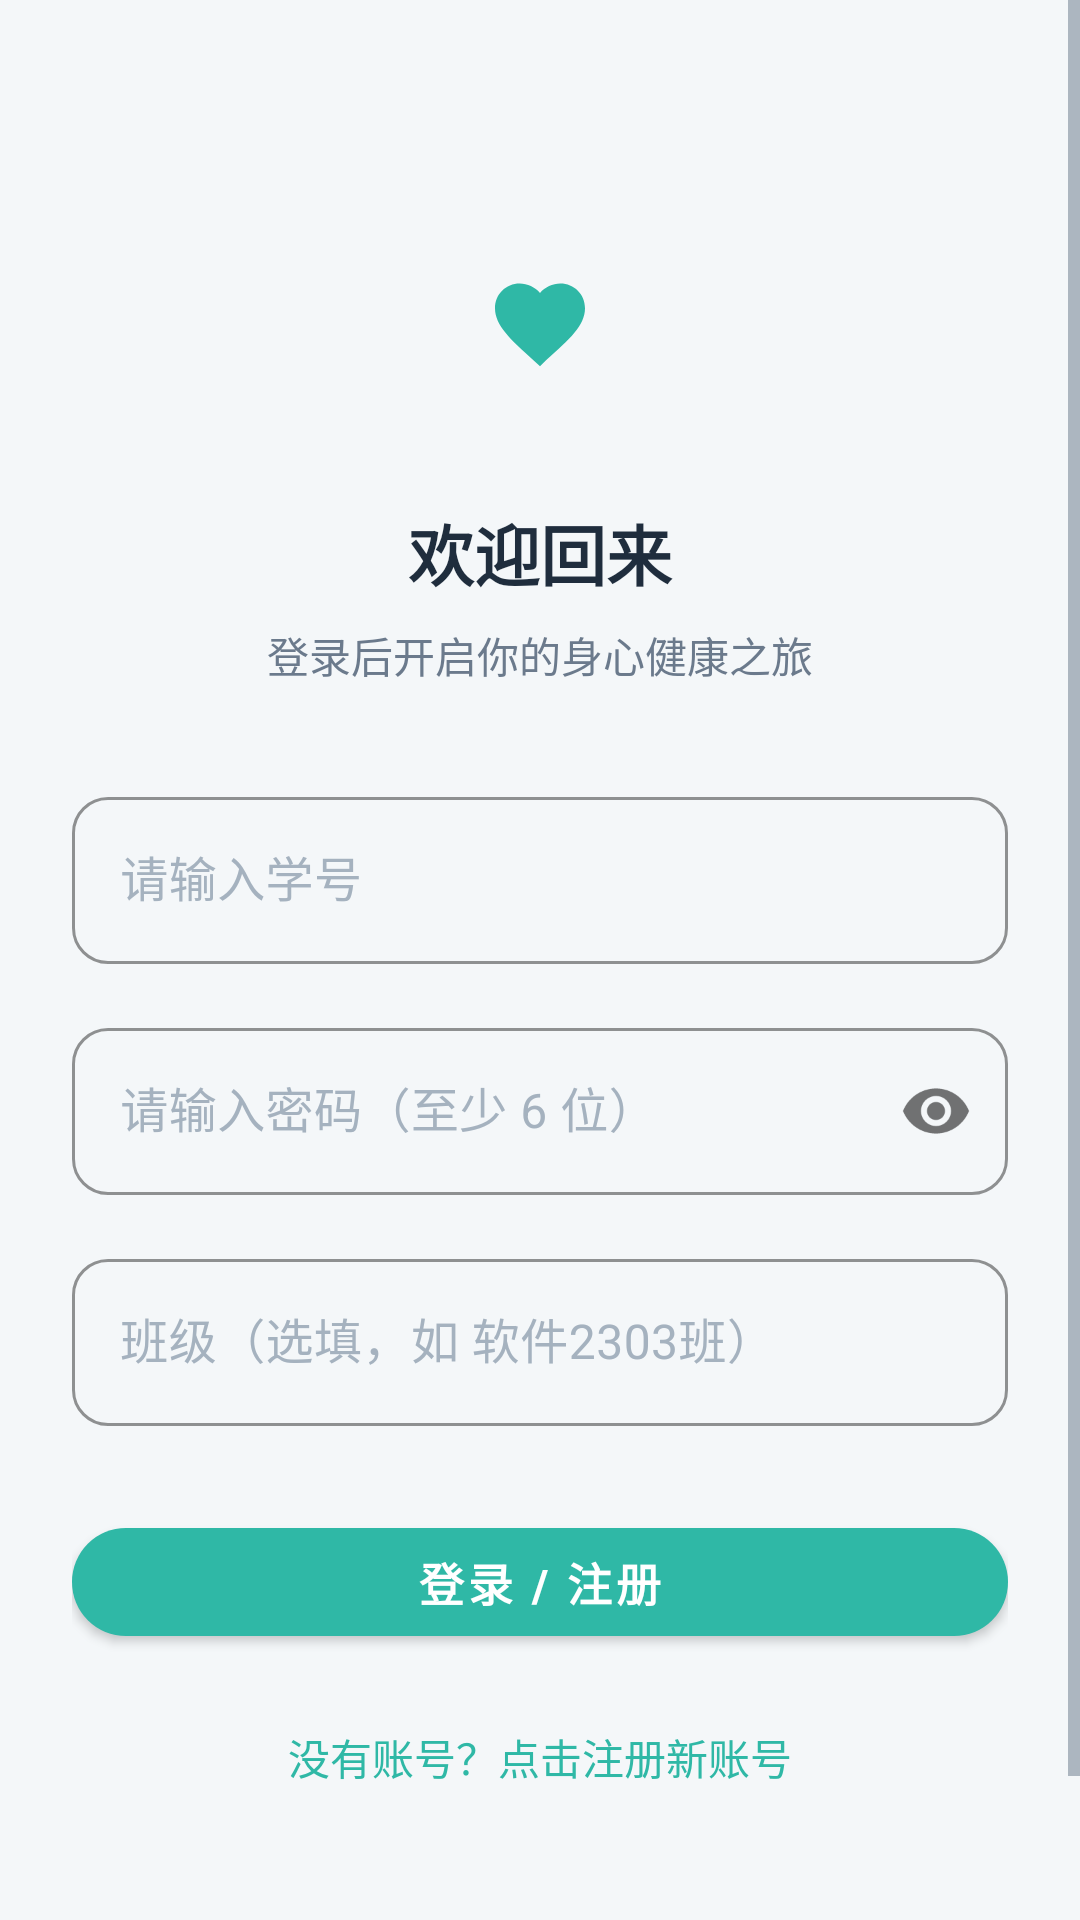

Screen size 1080 × 1920. Icon name, then its center in pixels as point (x, y):
heart: point (540, 324)
